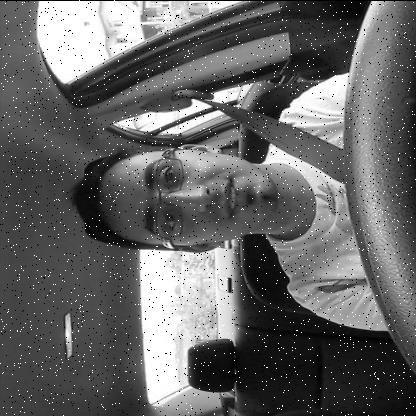seatbelt: (54, 99, 346, 288)
